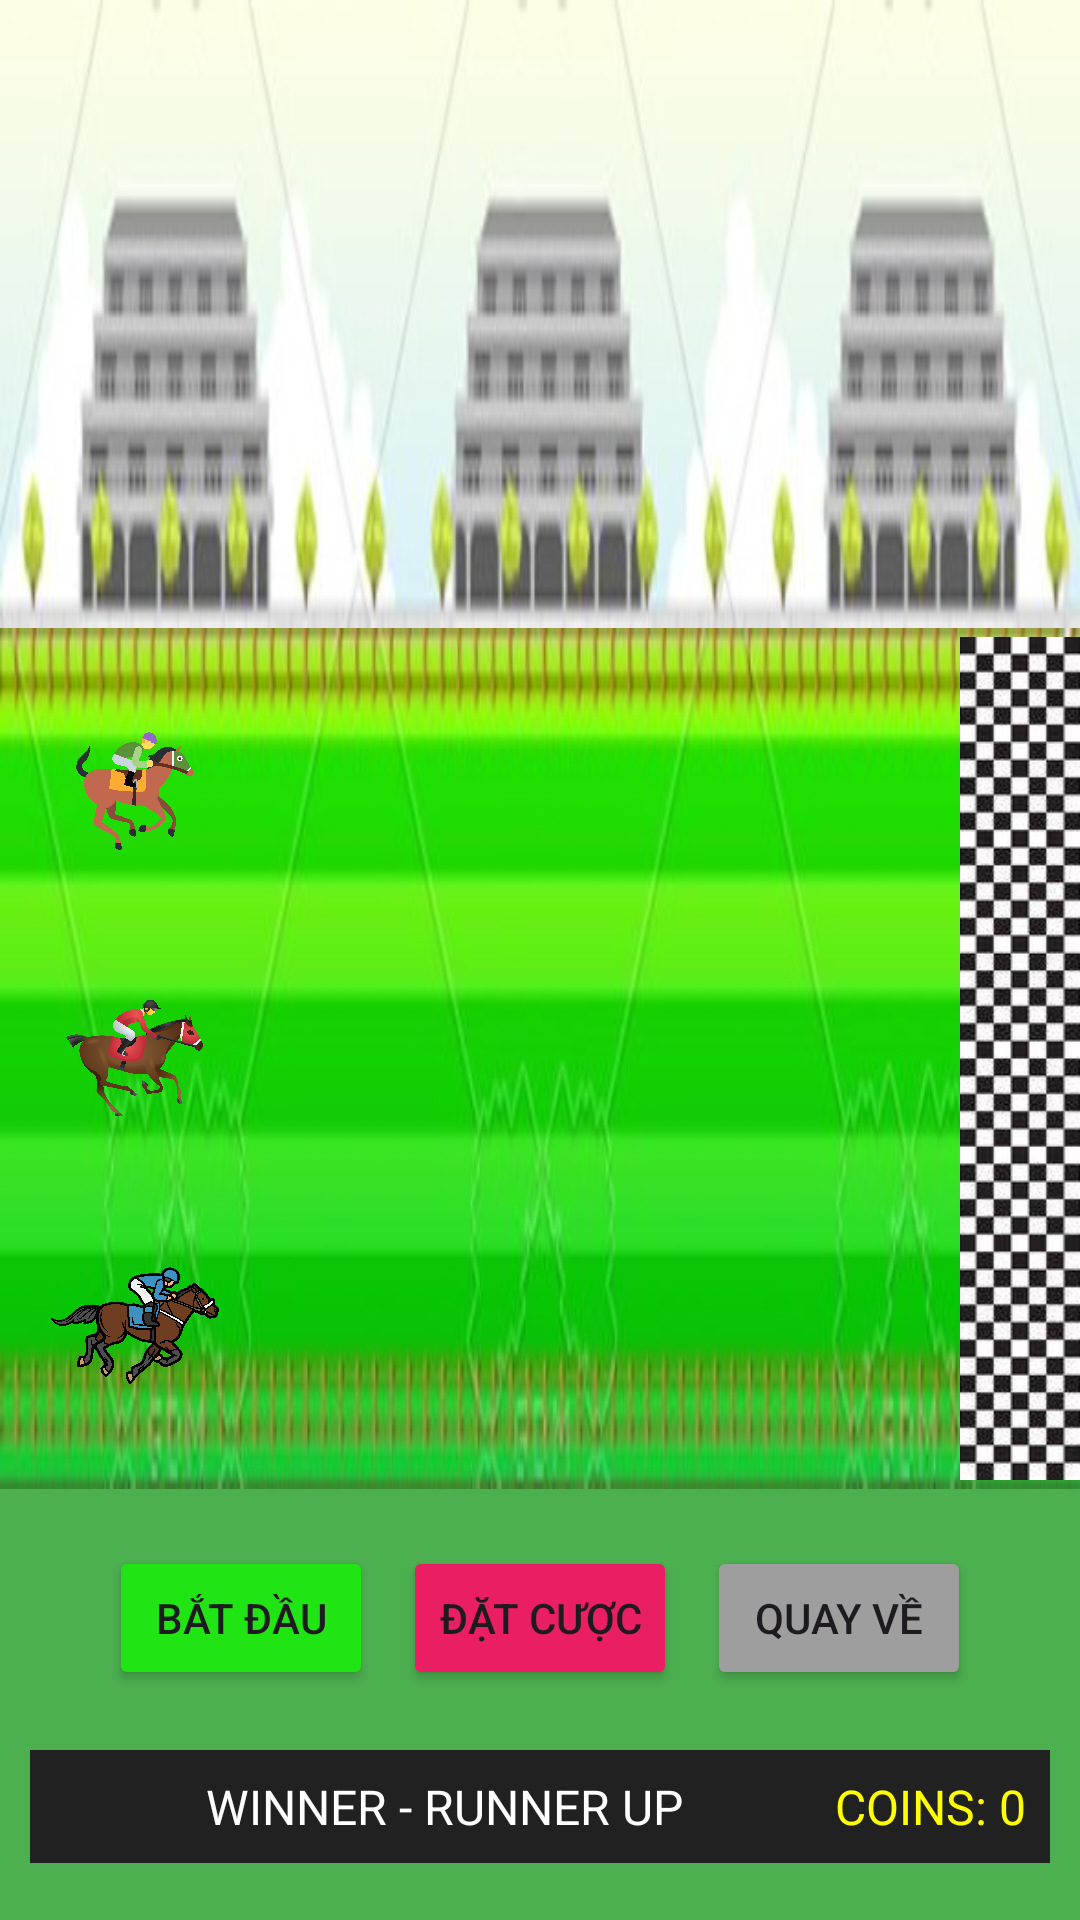

Point at icon controls on the screen. Image size 1080×1920, points as (x=x, y=y).
horse: (x=135, y=791), (x=135, y=1058), (x=135, y=1325)
